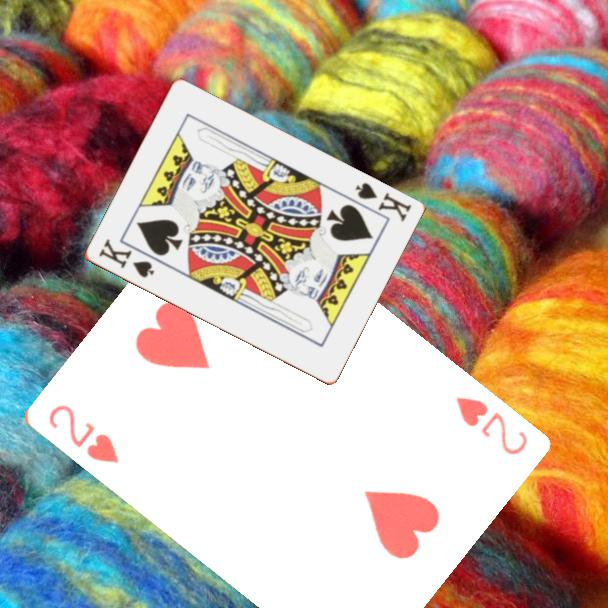h02: (451, 393, 530, 459), (44, 401, 122, 467)
s13: (351, 179, 414, 225), (95, 235, 157, 281)
